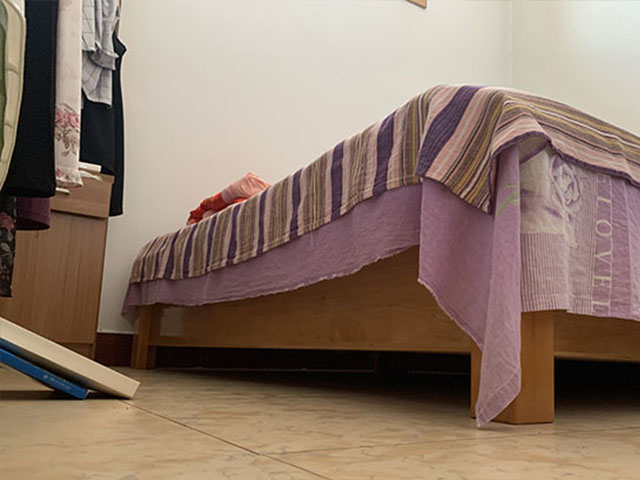bed: (127, 80, 640, 427)
book: (1, 318, 143, 402)
